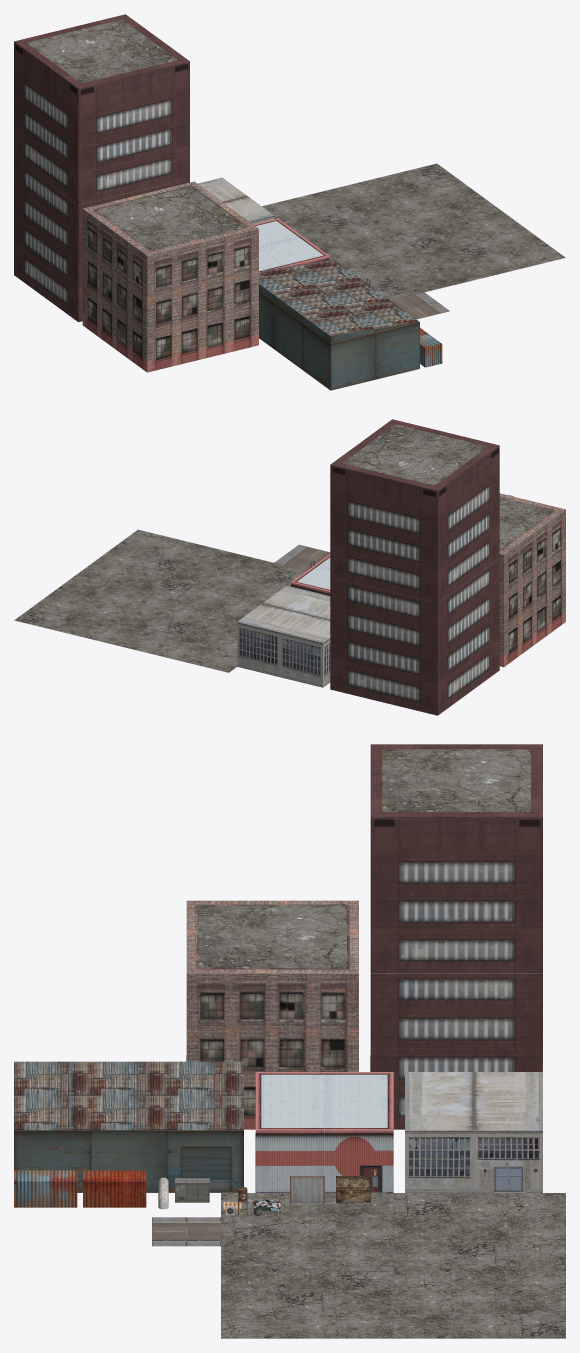
File: Ladder_Top.fbx
3 renders of one model, top to bottom at view 1: azimuth 30°, elevation 25°; view 2: azimuth 150°, elevation 25°; view 3: azimuth 270°, elevation 25°, orthographic. The views are drawn at different scales.
Visible parts, largest first — view 1: Building_D, Building_B, Ground, Building_E, Building_C, Building_A, Road, Container_B; view 2: Building_D, Ground, Building_B, Building_A, Building_C, Road; view 3: Building_D, Ground, Building_B, Building_E, Building_A, Building_C, Container_A, Container_B, Road, Metal_Fence, Metal_Gate, ElectricBox.
Part boxes in pixels (left/top/right/bottom): Building_D: left=14, top=14, right=189, bottom=322; Building_B: left=82, top=181, right=258, bottom=372; Ground: left=262, top=163, right=565, bottom=300; Building_E: left=259, top=259, right=419, bottom=390; Building_C: left=253, top=218, right=329, bottom=270; Building_A: left=198, top=177, right=273, bottom=224; Road: left=391, top=292, right=449, bottom=319; Container_B: left=420, top=328, right=442, bottom=367; Building_D: left=330, top=419, right=499, bottom=715; Ground: left=14, top=529, right=306, bottom=672; Building_B: left=499, top=493, right=565, bottom=667; Building_A: left=237, top=585, right=330, bottom=687; Building_C: left=291, top=554, right=330, bottom=595; Road: left=274, top=544, right=330, bottom=570; Building_D: left=370, top=744, right=542, bottom=1129; Ground: left=221, top=1193, right=565, bottom=1338; Building_B: left=186, top=900, right=358, bottom=1129; Building_E: left=14, top=1061, right=243, bottom=1192; Building_A: left=405, top=1072, right=542, bottom=1192; Building_C: left=255, top=1072, right=393, bottom=1192; Container_A: left=83, top=1170, right=146, bottom=1207; Container_B: left=14, top=1170, right=77, bottom=1207; Road: left=152, top=1217, right=220, bottom=1246; Metal_Fence: left=290, top=1176, right=324, bottom=1202; Metal_Gate: left=336, top=1176, right=370, bottom=1202; ElectricBox: left=174, top=1178, right=209, bottom=1202.
Bounding box in the file's own units: 5800 × 3015 × 4800.
2 materials, 2 textured.
